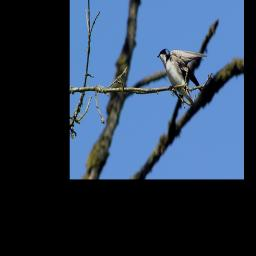Swallow: (157, 47, 207, 110)
